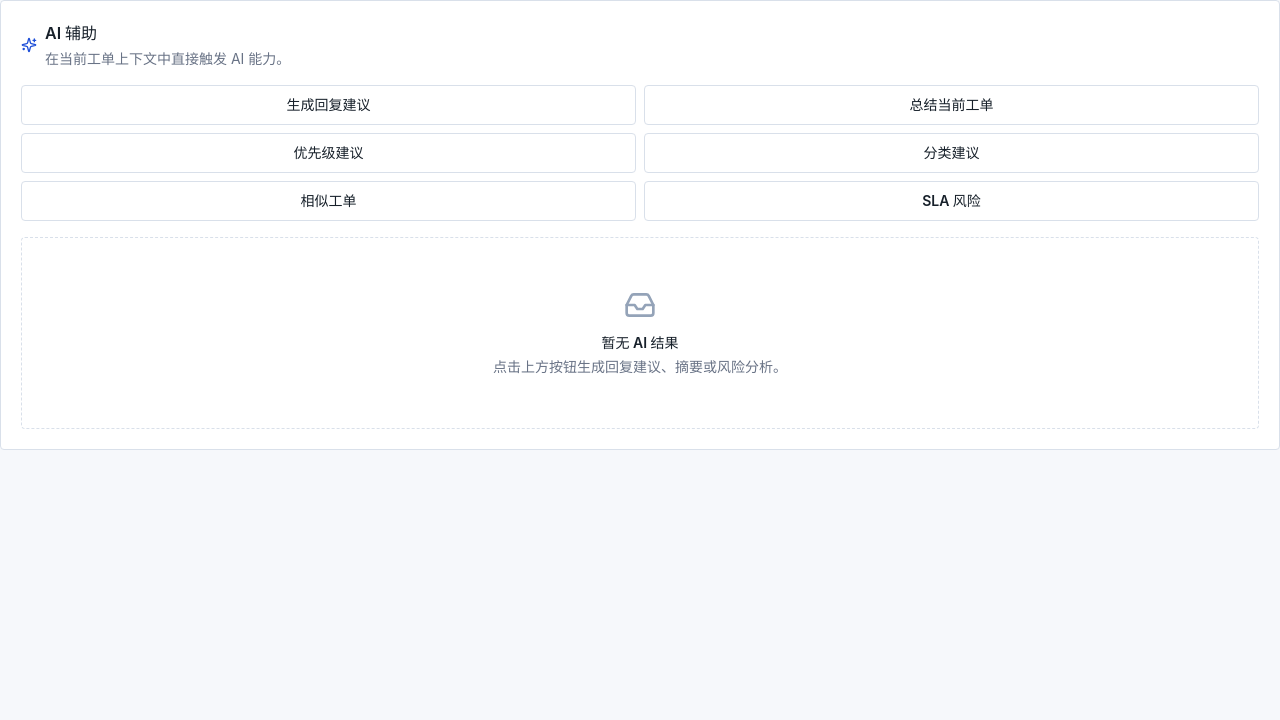
Scenario: TicketAiAssistantPanel › does not show save or apply actions to USER AI result cards
Click the button "生成回复建议": (328, 105) [21, 85, 636, 125]
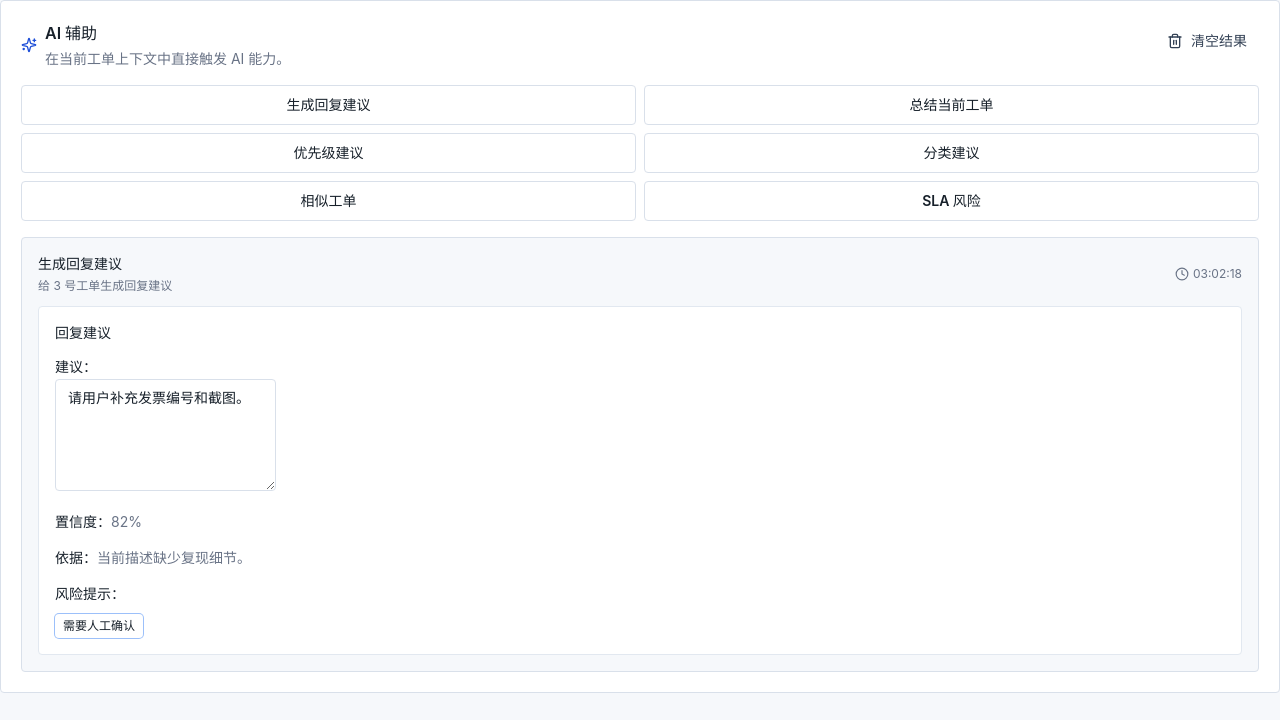
Check: the text box showing "请用户补充发票编号和截图。" is shown, box [55, 379, 276, 491]
